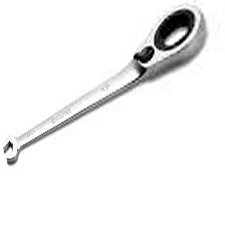Wrench: (5, 5, 210, 173)
